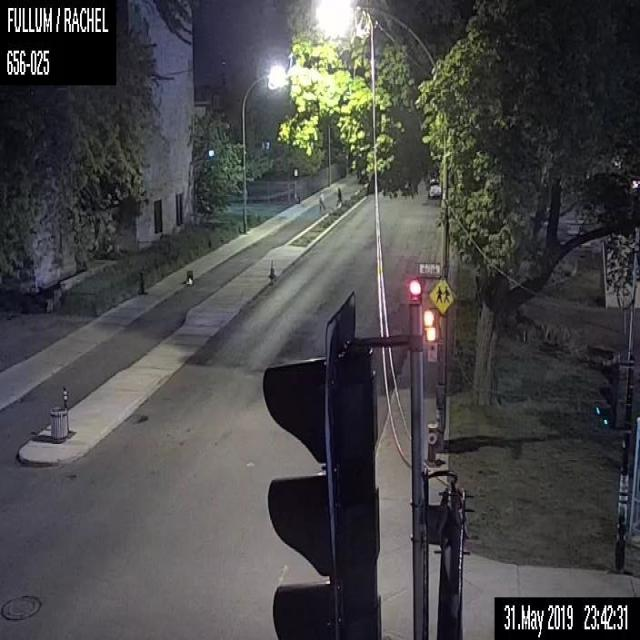construction: (268, 257, 275, 277)
pedestrian: (335, 186, 342, 206), (319, 188, 325, 210)
vehicle: (427, 178, 441, 196)
